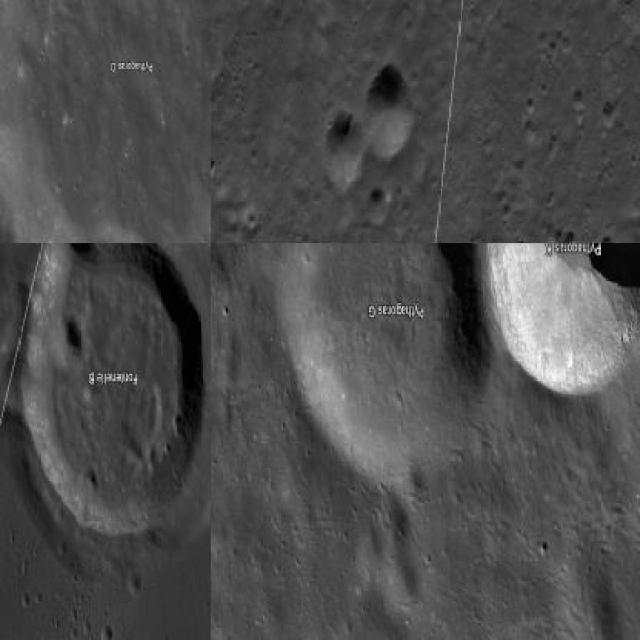crater: (25, 243, 202, 539), (0, 0, 209, 242), (282, 243, 489, 483), (488, 243, 638, 399), (365, 62, 412, 162), (320, 104, 363, 194), (366, 184, 388, 224), (45, 243, 92, 260)
